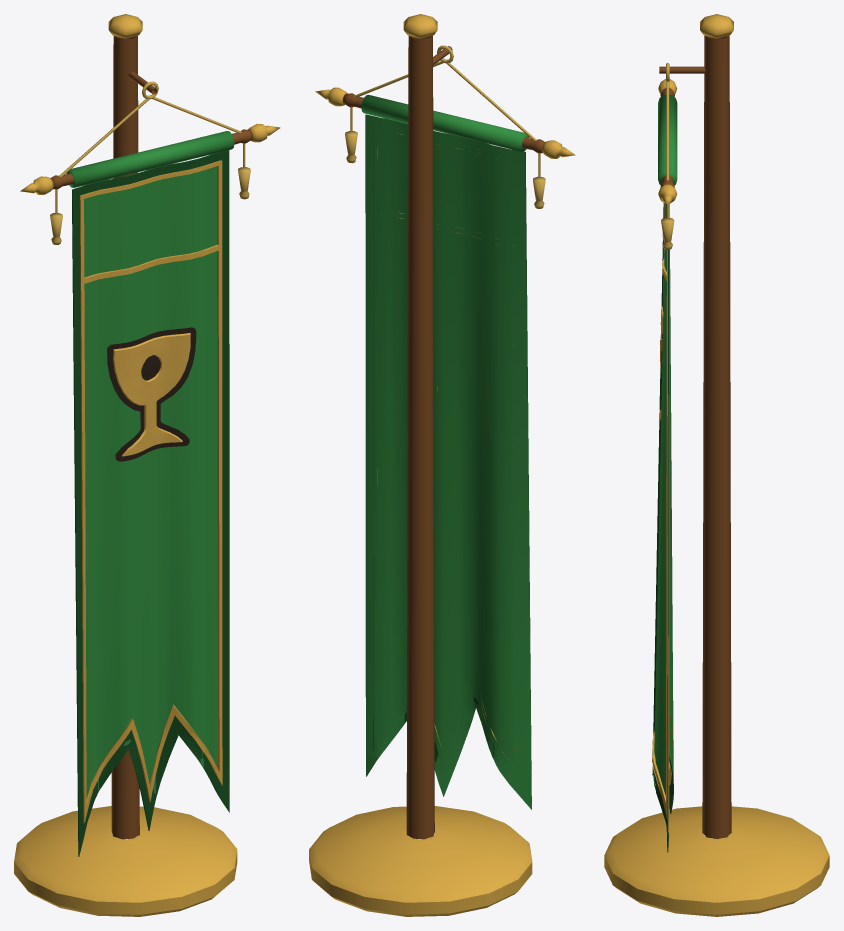
The model's file is km_gonfalon_aristocracy-USWJipyR.glb.
3 renders of one model, left to right at view 1: azimuth 30°, elevation 25°; view 2: azimuth 150°, elevation 25°; view 3: azimuth 270°, elevation 25°, orthographic.
Visible parts, largest first — view 1: aristocracy_cloth, aristocracy_stand_foot, aristocracy_hem, aristocracy_gold_trim, aristocracy_stand_pole, aristocracy_sigil_gold, aristocracy_sleeve, aristocracy_sigil_backing, aristocracy_cord, aristocracy_finials, aristocracy_stand_knob, aristocracy_tassels; view 2: aristocracy_cloth, aristocracy_stand_pole, aristocracy_stand_foot, aristocracy_sleeve, aristocracy_hem, aristocracy_cord, aristocracy_finials, aristocracy_stand_knob, aristocracy_tassels; view 3: aristocracy_stand_pole, aristocracy_stand_foot, aristocracy_cloth, aristocracy_gold_trim, aristocracy_hem, aristocracy_sleeve, aristocracy_stand_knob, aristocracy_cord.
Part boxes in pixels (<box>): aristocracy_cloth: <box>84,160,225,818</box>; aristocracy_stand_foot: <box>14,806,237,916</box>; aristocracy_hem: <box>72,150,229,856</box>; aristocracy_gold_trim: <box>79,160,222,823</box>; aristocracy_stand_pole: <box>111,35,157,839</box>; aristocracy_sigil_gold: <box>113,333,190,456</box>; aristocracy_sleeve: <box>66,131,234,187</box>; aristocracy_sigil_backing: <box>107,327,196,461</box>; aristocracy_cord: <box>55,81,245,213</box>; aristocracy_finials: <box>20,123,280,194</box>; aristocracy_stand_knob: <box>108,14,142,38</box>; aristocracy_tassels: <box>50,167,250,244</box>; aristocracy_cloth: <box>365,115,531,809</box>; aristocracy_stand_pole: <box>406,35,452,839</box>; aristocracy_stand_foot: <box>309,806,532,916</box>; aristocracy_sleeve: <box>361,95,529,151</box>; aristocracy_hem: <box>366,114,531,802</box>; aristocracy_cord: <box>350,45,540,177</box>; aristocracy_finials: <box>315,87,575,158</box>; aristocracy_stand_knob: <box>403,14,437,38</box>; aristocracy_tassels: <box>345,131,545,208</box>; aristocracy_stand_pole: <box>659,35,731,838</box>; aristocracy_stand_foot: <box>604,806,829,916</box>; aristocracy_cloth: <box>653,203,673,806</box>; aristocracy_gold_trim: <box>652,203,673,819</box>; aristocracy_hem: <box>652,203,673,852</box>; aristocracy_sleeve: <box>658,94,677,185</box>; aristocracy_stand_knob: <box>700,14,733,38</box>; aristocracy_cord: <box>666,62,669,218</box>.
Bounding box in the file's own units: 0.107 × 0.335 × 0.08.
